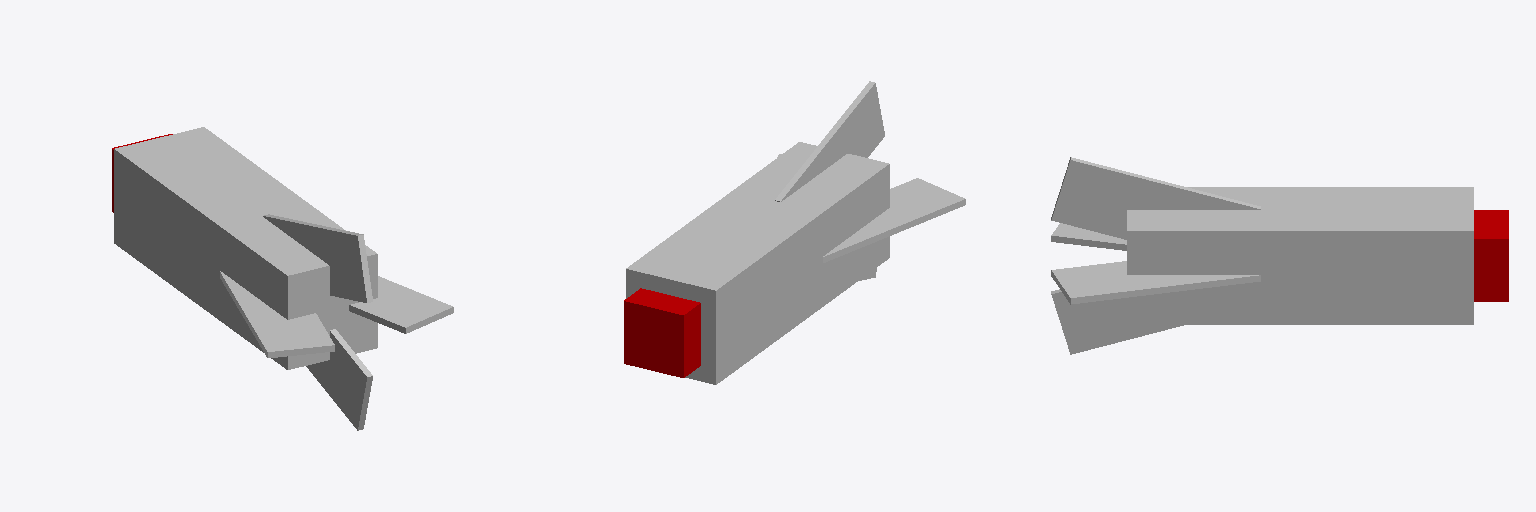
Rendered from missile.obj.
3 views of the same model, side by side, from view 1: azimuth 30°, elevation 25°; view 2: azimuth 150°, elevation 25°; view 3: azimuth 270°, elevation 25° (orthographic).
Visible parts, largest first — view 1: Cube, Cube.004, Cube.002, Cube.003, Cube.001; view 2: Cube, Cube.005, Cube.004, Cube.002; view 3: Cube, Cube.004, Cube.001, Cube.003, Cube.005, Cube.002.
Boxes of the visible parts, <box> form: Cube: <box>114,127,377,369</box>; Cube.004: <box>263,214,372,302</box>; Cube.002: <box>220,271,334,357</box>; Cube.003: <box>306,329,372,430</box>; Cube.001: <box>349,276,453,333</box>; Cube: <box>626,142,889,384</box>; Cube.005: <box>624,288,700,377</box>; Cube.004: <box>775,81,884,201</box>; Cube.002: <box>823,178,965,262</box>; Cube: <box>1127,187,1473,324</box>; Cube.004: <box>1051,157,1260,239</box>; Cube.001: <box>1051,261,1260,304</box>; Cube.003: <box>1051,289,1183,354</box>; Cube.005: <box>1474,210,1508,301</box>; Cube.002: <box>1051,223,1126,250</box>.
Size of the model in its own units: 1.24 by 1.24 by 2.63.